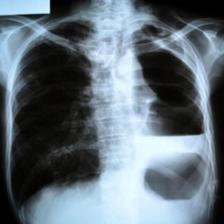tuberculosis: (8, 16, 213, 220)
